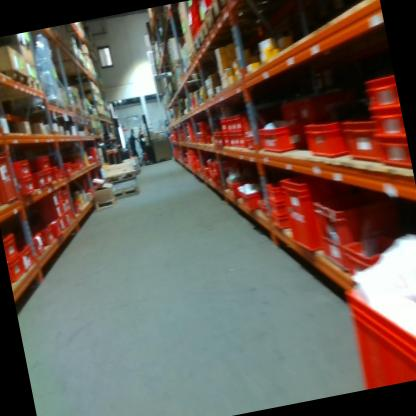pallet: (0, 67, 33, 103), (15, 74, 44, 101), (205, 0, 235, 26), (102, 169, 138, 188), (112, 181, 143, 202), (197, 14, 215, 46), (191, 26, 207, 57), (186, 47, 197, 67)
pallet_truck: (135, 107, 157, 169), (109, 112, 134, 158)
small_load_carrier: (335, 247, 416, 387), (277, 164, 344, 266), (309, 179, 397, 250), (339, 218, 414, 293), (279, 86, 356, 150), (301, 114, 347, 165), (340, 113, 383, 166), (359, 70, 400, 116), (254, 117, 302, 156), (375, 131, 412, 174), (321, 233, 351, 281), (369, 107, 406, 144), (0, 145, 20, 208), (236, 180, 265, 216), (262, 174, 286, 206), (268, 209, 294, 237), (0, 227, 20, 262), (28, 228, 49, 261), (61, 184, 77, 225), (19, 241, 37, 277), (222, 173, 245, 201), (265, 196, 290, 221), (5, 253, 25, 284), (14, 175, 37, 198), (30, 166, 49, 192), (27, 153, 51, 172), (45, 200, 66, 221), (10, 157, 32, 177), (48, 214, 64, 241), (43, 189, 64, 205), (41, 222, 54, 247), (244, 132, 259, 153), (236, 131, 251, 151), (60, 161, 75, 179), (42, 168, 54, 188), (216, 131, 227, 151), (233, 113, 245, 131), (89, 145, 99, 163), (58, 214, 69, 230), (228, 114, 237, 132), (218, 119, 228, 134), (50, 165, 60, 180), (57, 164, 66, 179), (221, 133, 230, 147), (227, 131, 236, 145), (213, 134, 221, 148), (206, 134, 215, 146), (224, 118, 232, 131), (0, 187, 5, 207), (233, 132, 240, 146)
